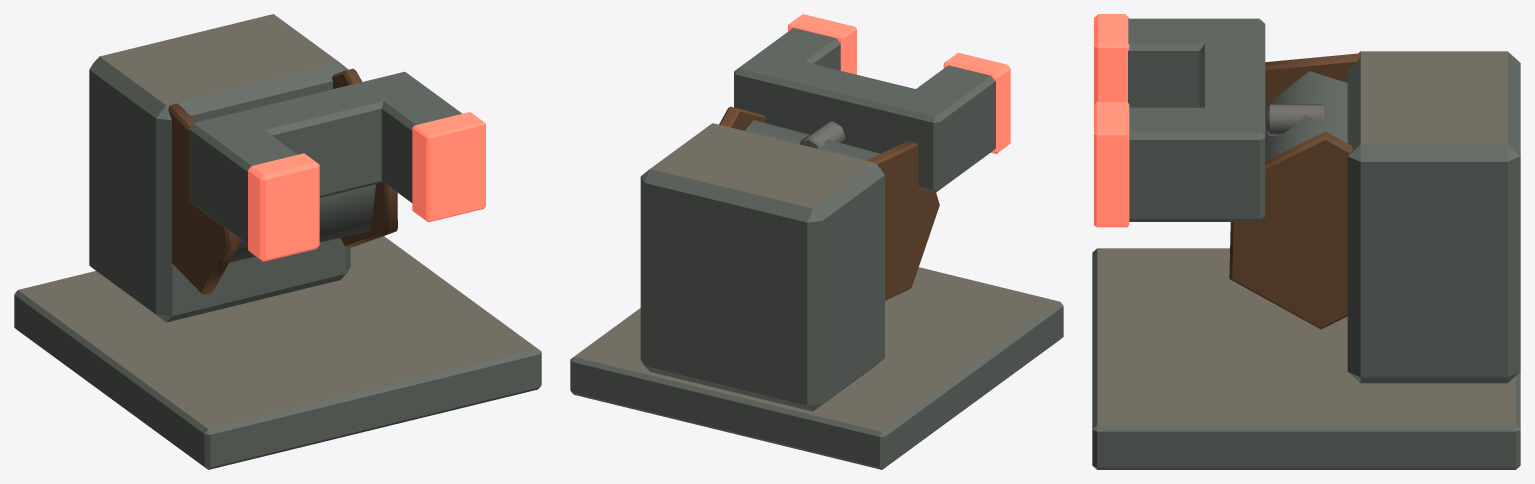
Rendered from R4X_MagneticGrapple_LOD1.fbx.
3 renders of one model, left to right at view 1: azimuth 30°, elevation 25°; view 2: azimuth 150°, elevation 25°; view 3: azimuth 270°, elevation 25°, orthographic. The views are drawn at different scales.
Parts seen in each view (by area): view 1: R4X_MagneticGrapple_LOD1; view 2: R4X_MagneticGrapple_LOD1; view 3: R4X_MagneticGrapple_LOD1.
Part boxes in pixels (x1=…): R4X_MagneticGrapple_LOD1: x1=14, y1=14, x2=541, y2=469; R4X_MagneticGrapple_LOD1: x1=570, y1=14, x2=1063, y2=469; R4X_MagneticGrapple_LOD1: x1=1092, y1=14, x2=1520, y2=469.
Size of the model in its own units: 0.52 by 0.414 by 0.52.
